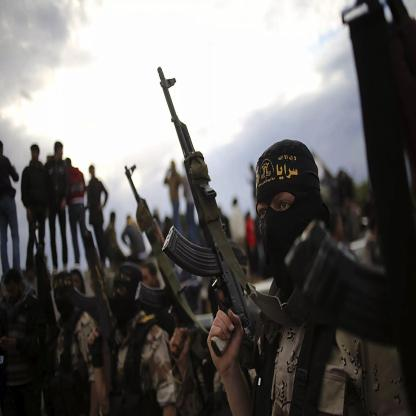rifle: (286, 0, 416, 360), (152, 66, 253, 346), (121, 163, 196, 329), (72, 205, 122, 342), (28, 221, 69, 341)
